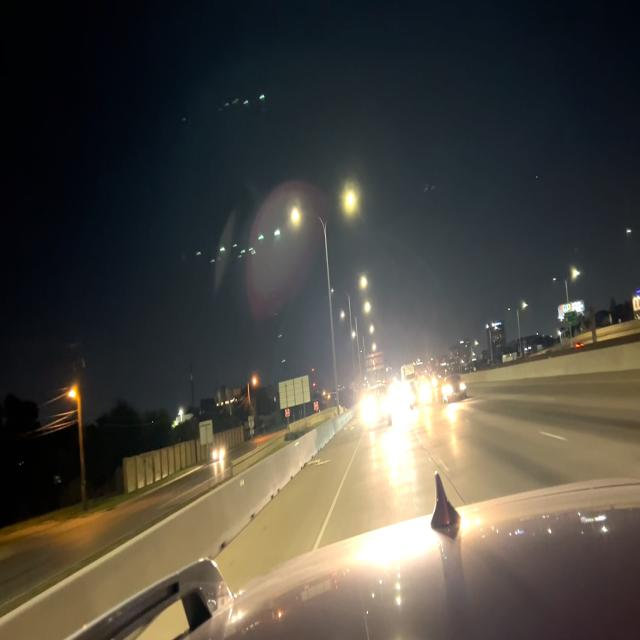back-of-sign: (277, 374, 311, 407), (365, 348, 385, 374), (199, 417, 214, 449)
